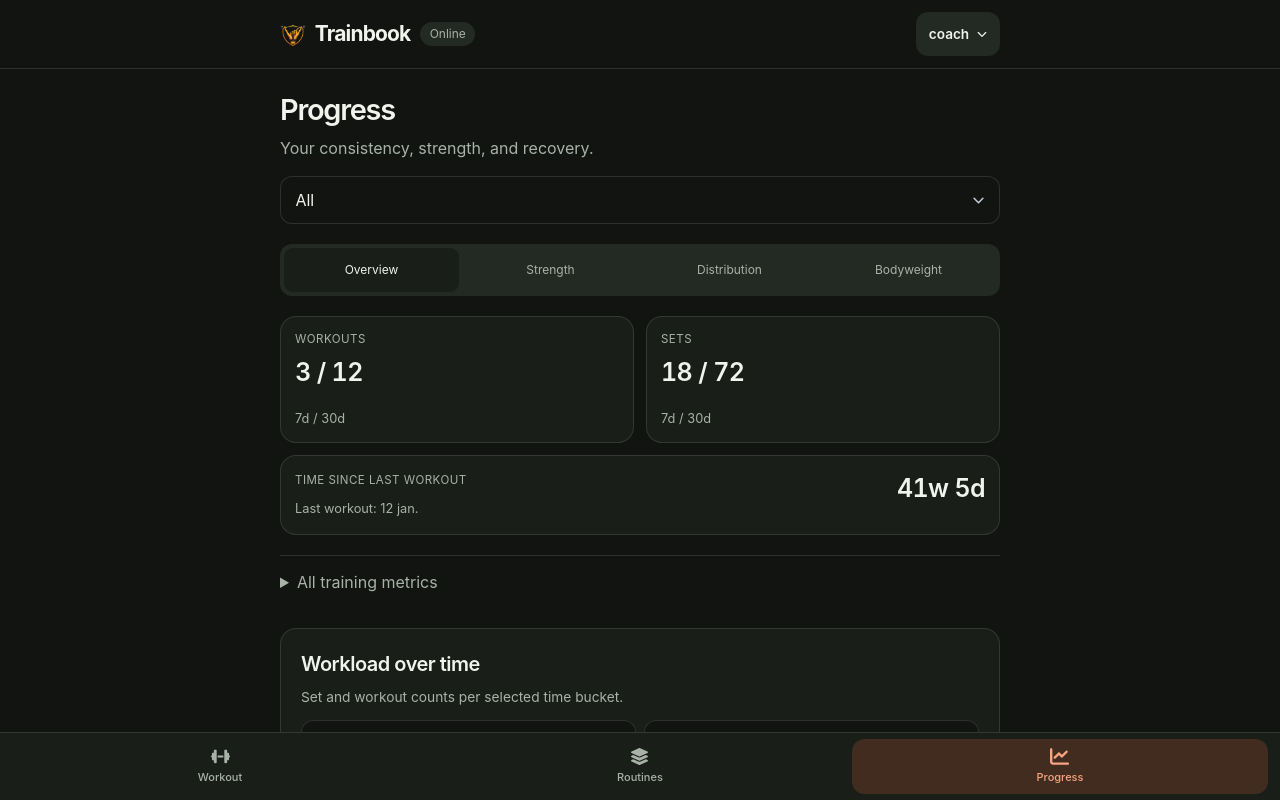
Test: Stats page › shows empty bodyweight state when no points are available
Click the button "Bodyweight": (908,270) [821, 248, 996, 292]
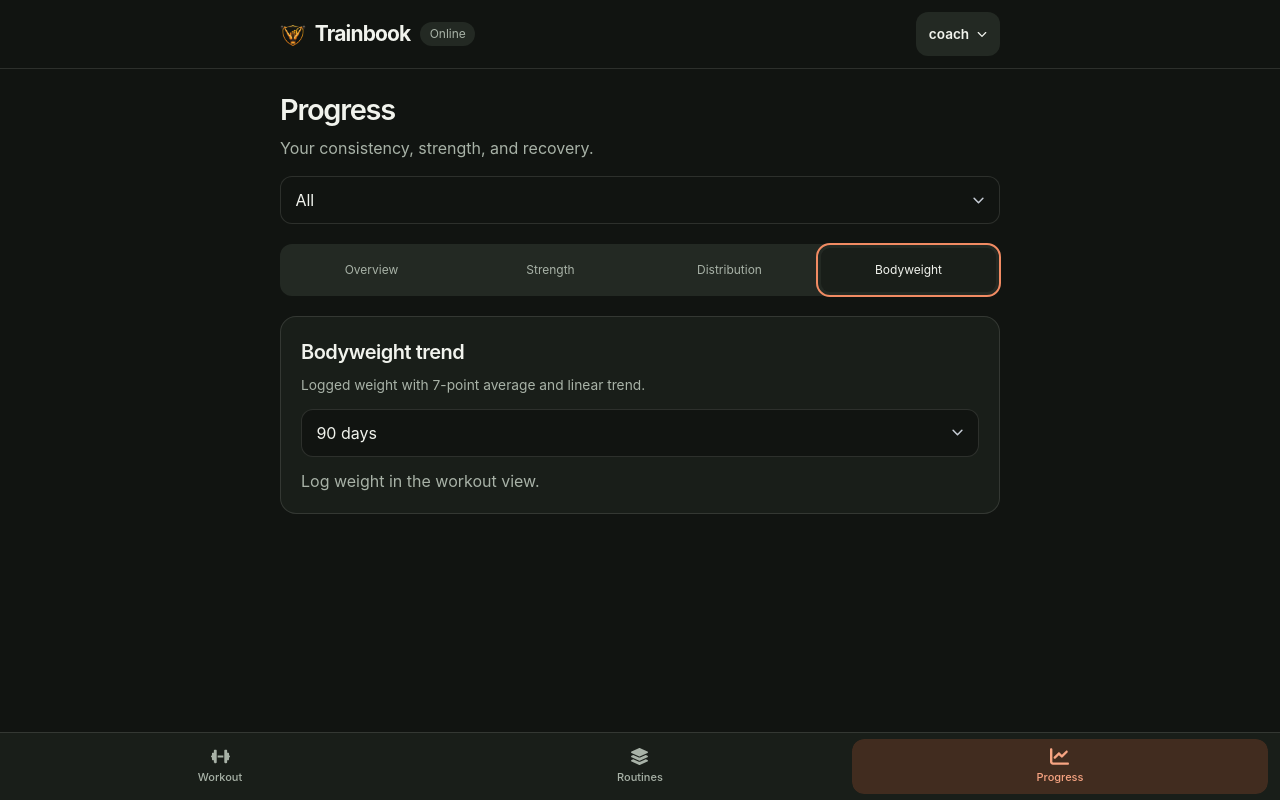
Expected: the text "Log weight in the workout view." is shown, [301, 471, 540, 491]
